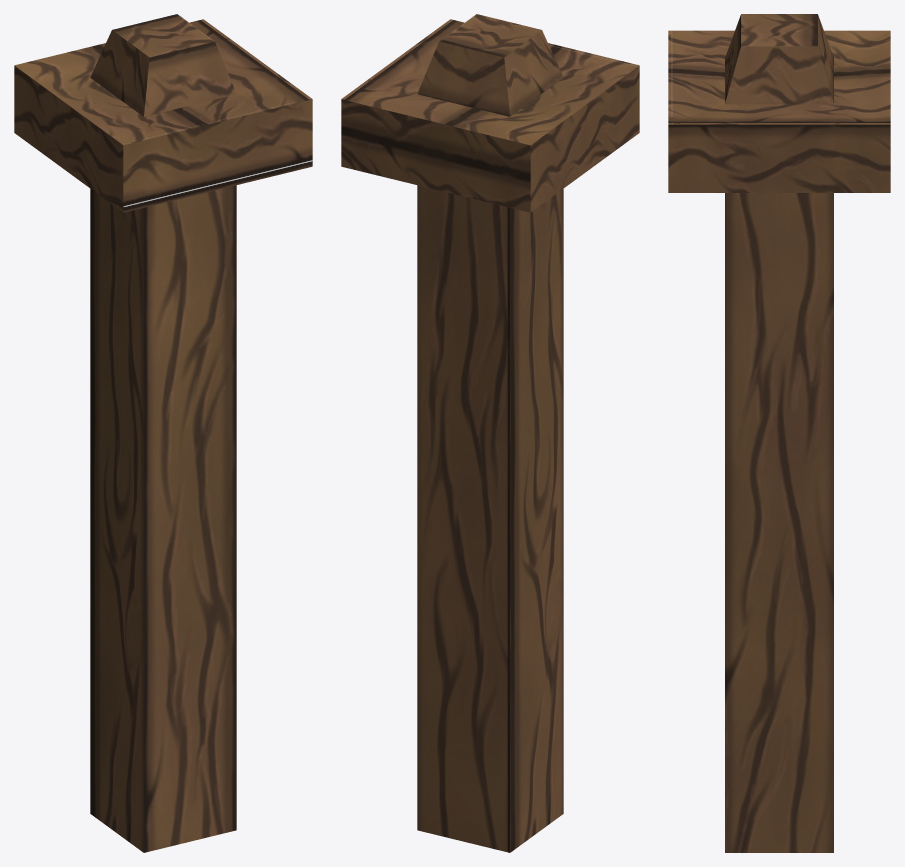
The model's file is Torch fbx.fbx.
The picture shows the model from 3 angles, left to right: view 1: azimuth 30°, elevation 25°; view 2: azimuth 150°, elevation 25°; view 3: azimuth 270°, elevation 25°; orthographic projection.
Visible parts, largest first — view 1: pCube2; view 2: pCube2; view 3: pCube2.
Part boxes in pixels (bbox=[...]): pCube2: bbox=[14, 14, 312, 852]; pCube2: bbox=[341, 14, 639, 852]; pCube2: bbox=[668, 14, 890, 852].
Size of the model in its own units: 1.15 by 4.55 by 1.15.
1 material, 1 textured.
